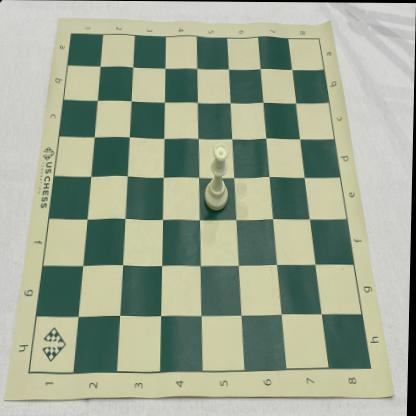white-queen: (205, 141, 231, 212)
